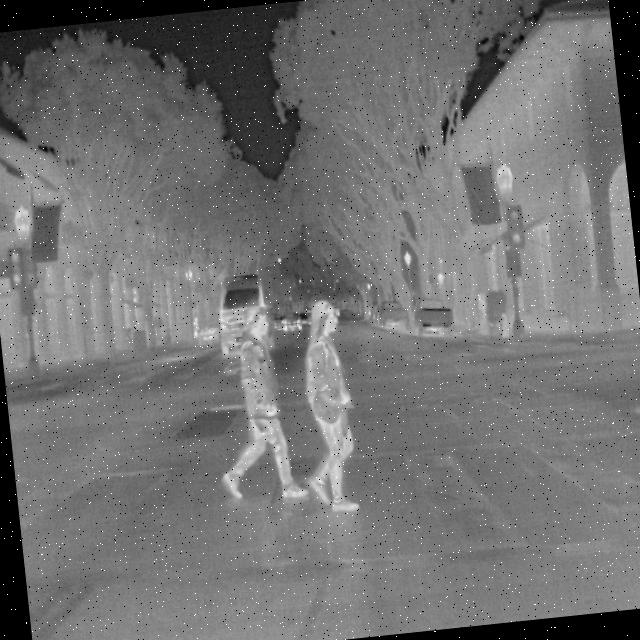Pedestrian: (200, 299, 310, 512), (288, 297, 365, 516)
Vehicle: (211, 268, 273, 359)
